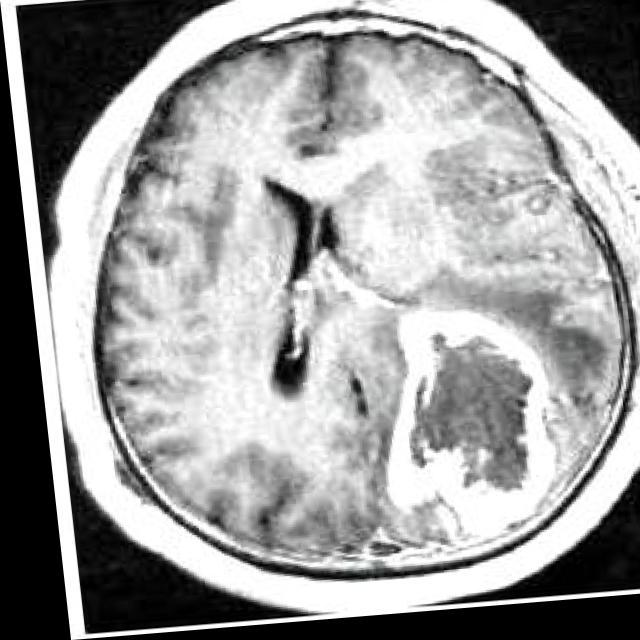Tumor: (374, 319, 543, 541)
